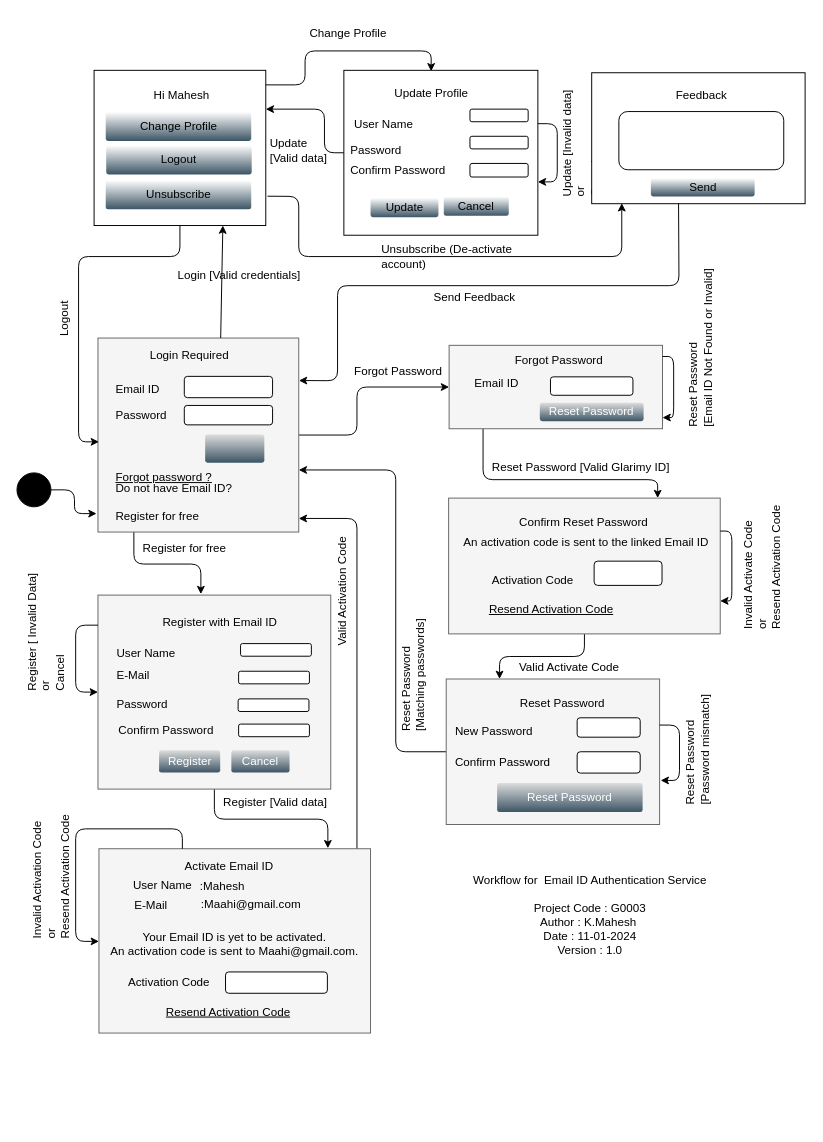
Some shapes in this 823 by 1142 pixel diagram are drawn without their labels. Each missing label, with the centre of its shape:
"Login" goes at [234,448].
"START" goes at [33,489].
